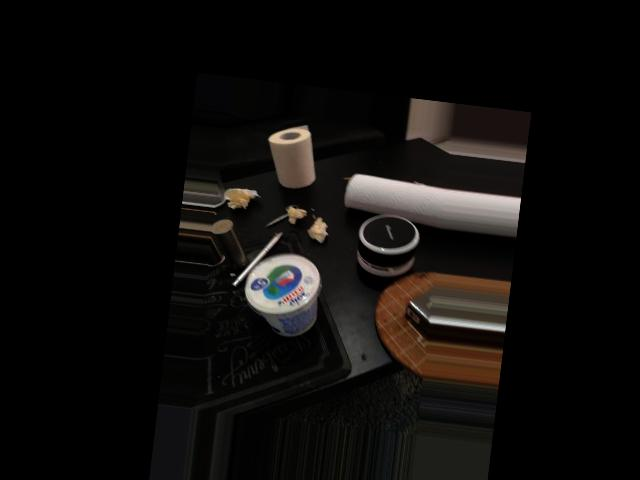cotage: (238, 253, 320, 344)
